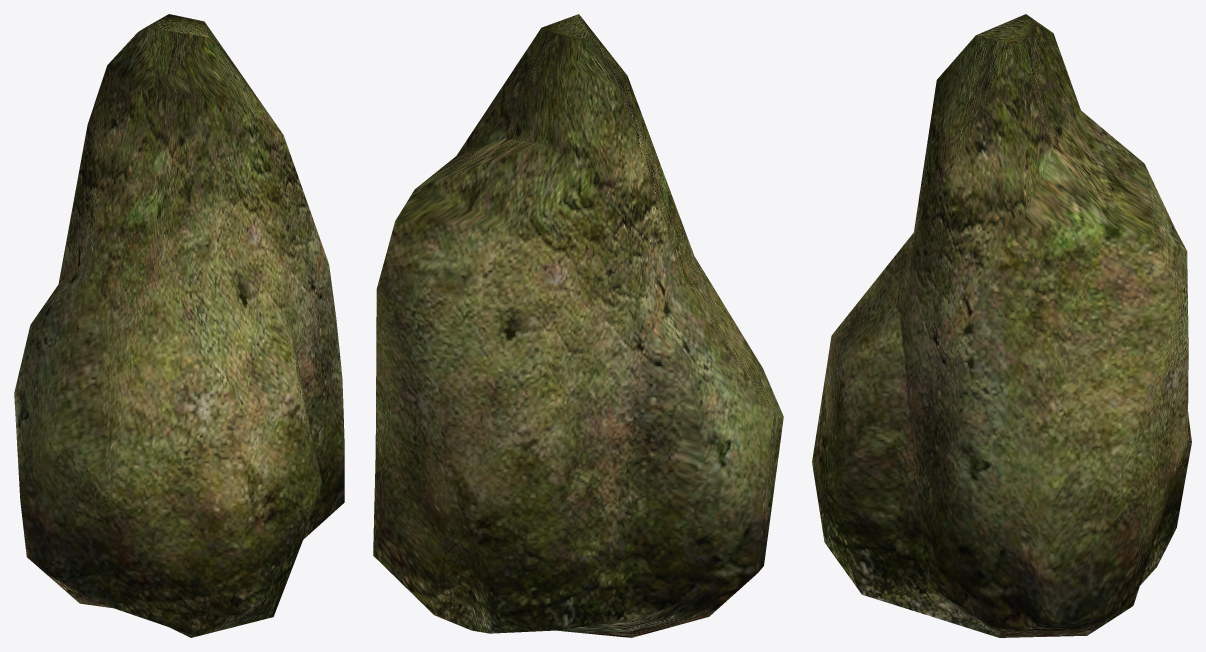
The model's file is rock_endr_mossyrock_lg_l0.fbx.
3 renders of one model, left to right at view 1: azimuth 30°, elevation 25°; view 2: azimuth 150°, elevation 25°; view 3: azimuth 270°, elevation 25°, orthographic. The views are drawn at different scales.
Visible parts, largest first — view 1: mesh_node; view 2: mesh_node; view 3: mesh_node.
Part boxes in pixels (x1,y1,x2,y2): mesh_node: [14, 14, 344, 637]; mesh_node: [373, 14, 783, 637]; mesh_node: [812, 14, 1191, 637].
Bounding box in the file's own units: 1.72 × 2.85 × 1.64.
